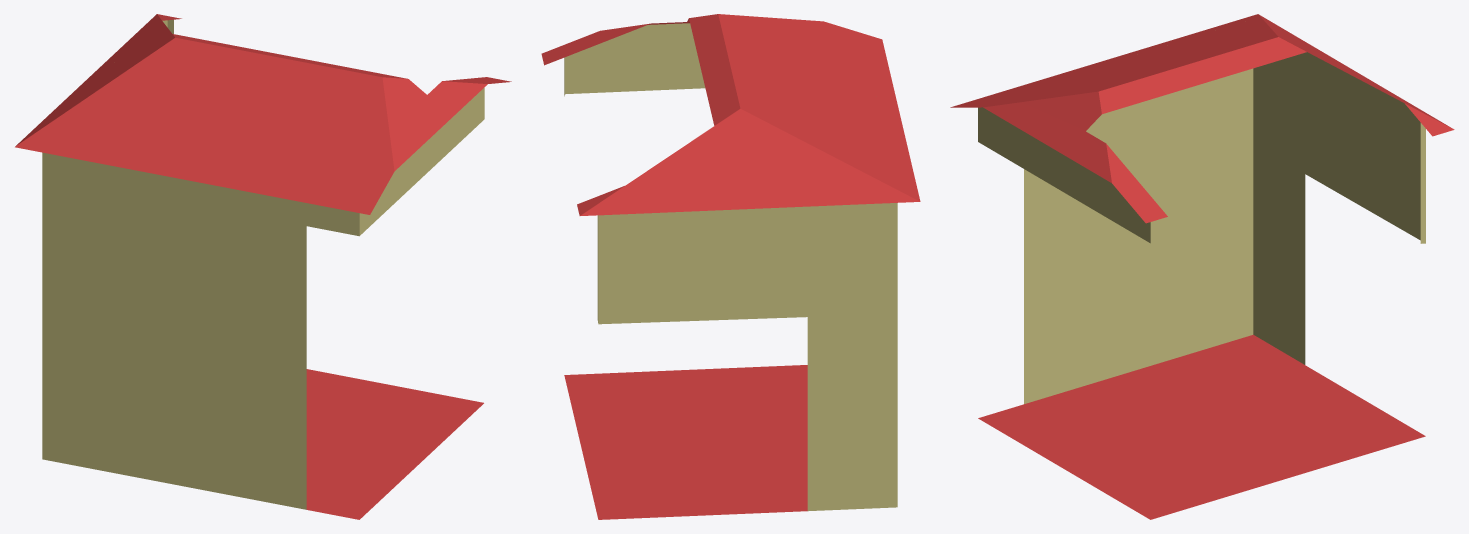
The picture shows the model from 3 angles, left to right: view 1: azimuth 30°, elevation 25°; view 2: azimuth 150°, elevation 25°; view 3: azimuth 270°, elevation 25°; orthographic projection. The views are drawn at different scales.
Bounding box in the file's own units: 18.09 × 18.45 × 14.78.
